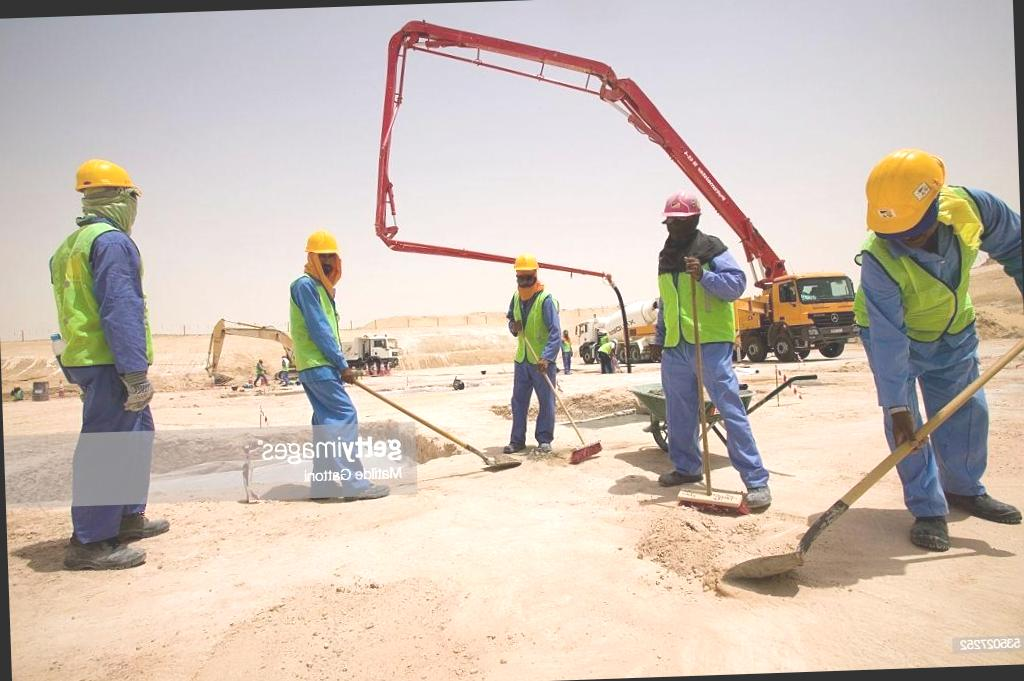helmet: (858, 146, 958, 252)
person: (858, 142, 1016, 576), (46, 156, 164, 574), (632, 190, 751, 506), (282, 228, 363, 512), (491, 249, 569, 466)
